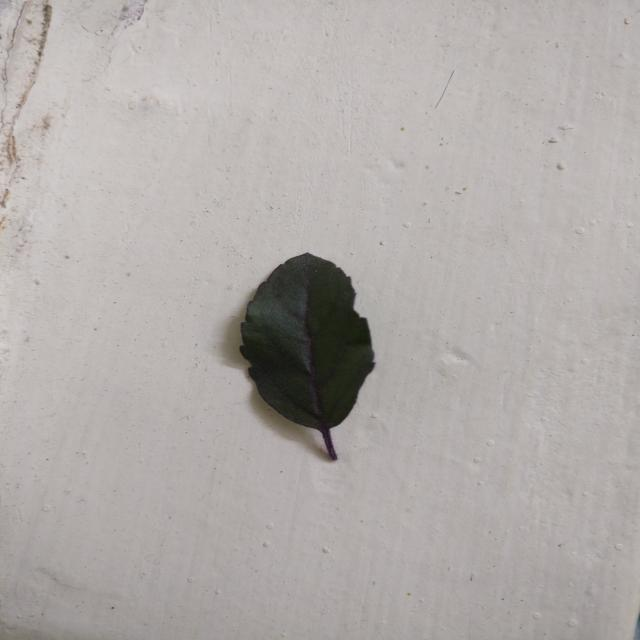tulsi: (240, 254, 375, 460)
